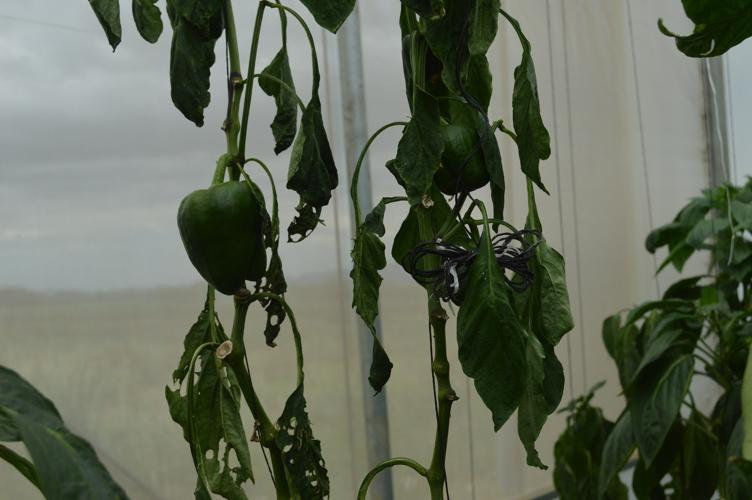BellPepper: (165, 176, 281, 303)
